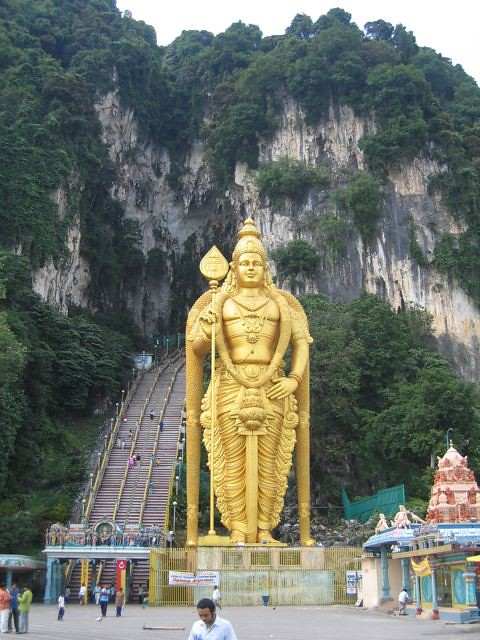Hindu Temple: (156, 206, 321, 535)
